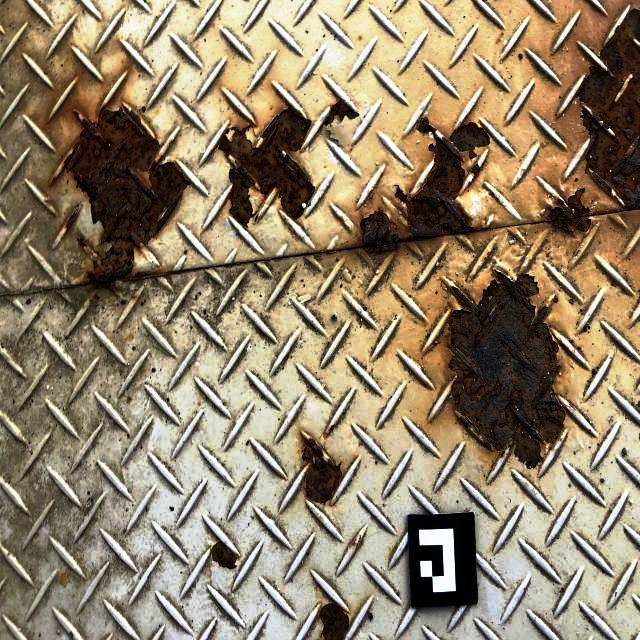Corrosion: (52, 98, 193, 302), (439, 268, 568, 473), (341, 114, 491, 257), (574, 6, 640, 212), (215, 103, 318, 234), (538, 185, 601, 238), (304, 98, 364, 152), (300, 437, 344, 507), (317, 601, 351, 640), (210, 540, 239, 571), (62, 204, 81, 235), (349, 532, 361, 552), (365, 184, 376, 203), (471, 162, 482, 178), (325, 423, 335, 437), (573, 177, 579, 185), (132, 295, 137, 300)
